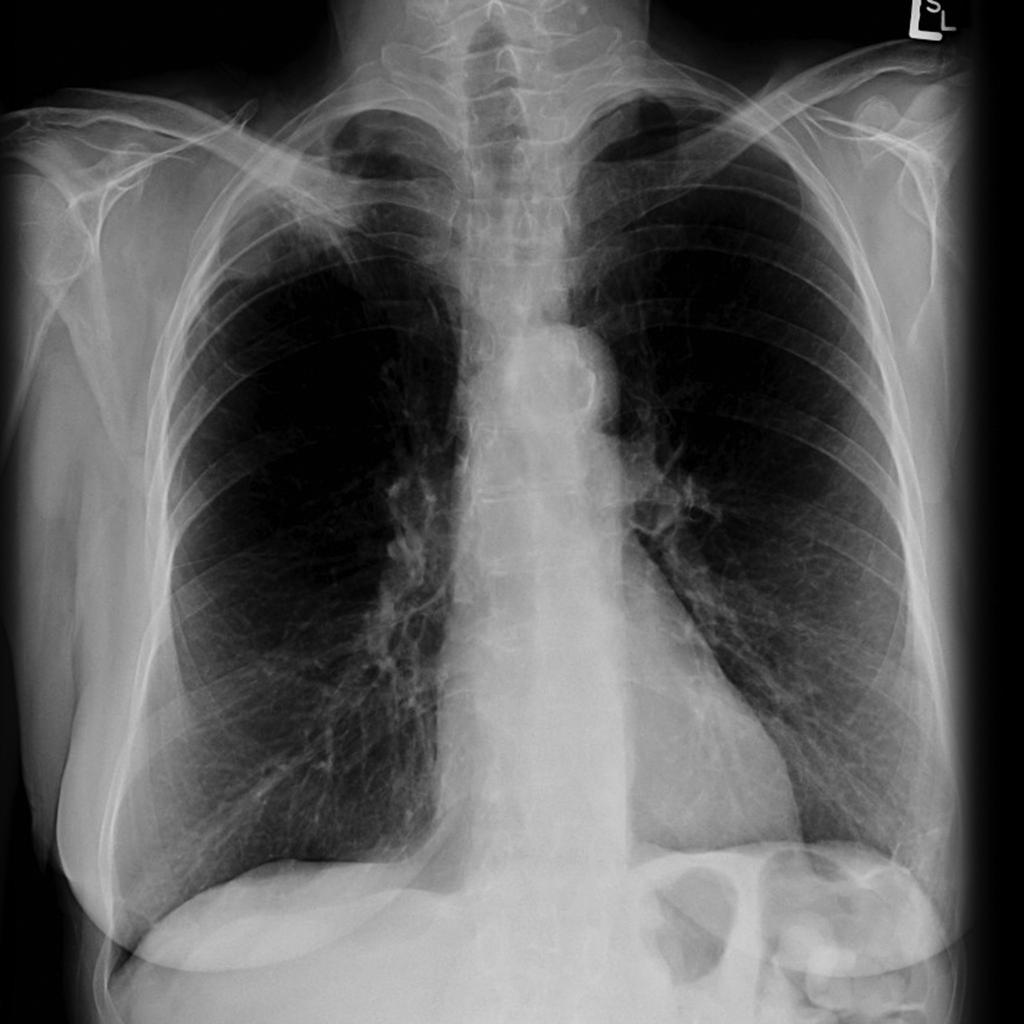cancer: (158, 234, 439, 851), (587, 157, 918, 664)
